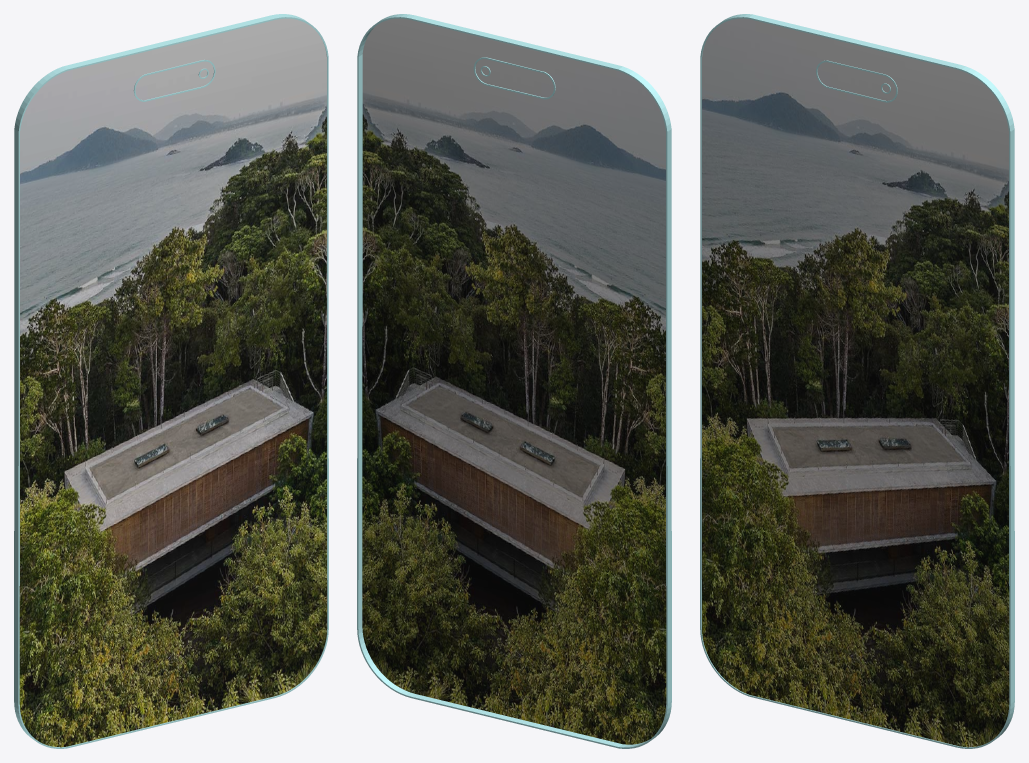
Rendered from Mita_phone3.glb.
3 views of the same model, side by side, from view 1: azimuth 30°, elevation 25°; view 2: azimuth 150°, elevation 25°; view 3: azimuth 330°, elevation 25° (orthographic).
Visible parts, largest first — view 1: Cylinder.004, Cylinder.005; view 2: Cylinder.004, Cylinder.005; view 3: Cylinder.004, Cylinder.005.
Part boxes in pixels (x1,y1,x2,y2): Cylinder.004: (19,18,326,747); Cylinder.005: (14,14,328,748); Cylinder.004: (362,18,666,744); Cylinder.005: (357,14,671,748); Cylinder.004: (702,18,1009,747); Cylinder.005: (700,14,1014,748).
Size of the model in its own units: 2.23 by 4.67 by 0.0536.
Materials: 2 (1 with a texture image).
